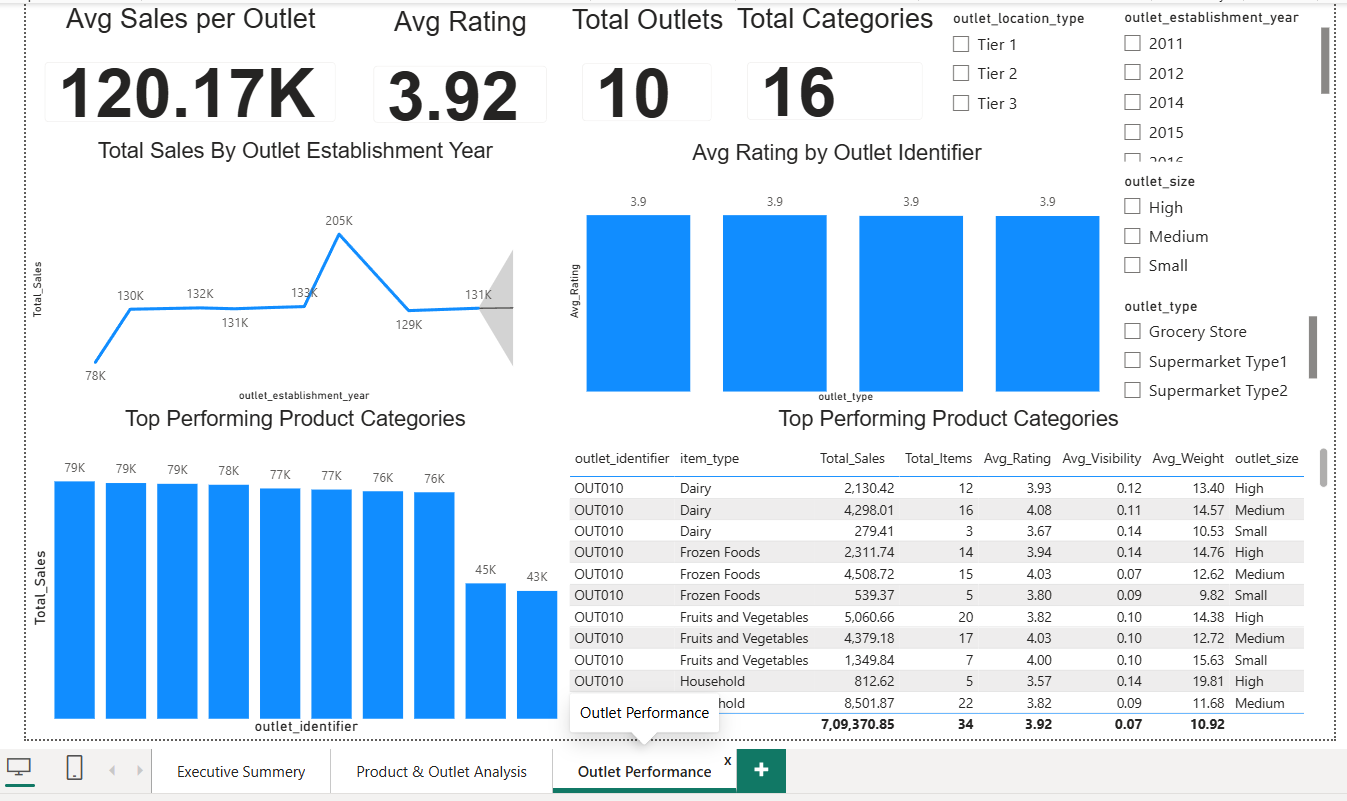

This screenshot's page, from the dashboard's own definition file:
{"tool":"powerbi","page":{"name":"Outlet Performance","canvas":[1280,720],"ordinal":2},"visuals":[{"type":"cardVisual","title":"Avg Sales per Outlet","fields":{"Data":["BlinkIT_Grocery_Data_Raw.Avg_Sales_per_Outlet"]},"box":[1.7,0,319.9,134.1],"z":0},{"type":"cardVisual","title":"Avg Rating","fields":{"Data":["BlinkIT_Grocery_Data_Raw.Avg_Rating"]},"box":[322.3,3.3,204.5,130.9],"z":1000},{"type":"cardVisual","title":"Total Outlets","fields":{"Data":["BlinkIT_Grocery_Data_Raw.Total_Outlets"]},"box":[526.8,1.6,162,132.5],"z":2000},{"type":"cardVisual","title":"Total Categories","fields":{"Data":["BlinkIT_Grocery_Data_Raw.Total_Categories"]},"box":[687.9,0,206.4,132.4],"z":3000},{"type":"slicer","fields":{"Values":["BlinkIT_Grocery_Data_Raw.outlet_establishment_year"]},"box":[1061,0,218.4,159.9],"z":4000},{"type":"slicer","fields":{"Values":["BlinkIT_Grocery_Data_Raw.outlet_location_type"]},"box":[894.2,1.7,166.8,132.4],"z":5000},{"type":"slicer","fields":{"Values":["BlinkIT_Grocery_Data_Raw.outlet_size"]},"box":[1061,159.9,218.4,127.3],"z":6000},{"type":"columnChart","title":"Top Performing Product Categories ","fields":{"Category":["BlinkIT_Grocery_Data_Raw.outlet_identifier"],"Y":["BlinkIT_Grocery_Data_Raw.Total_Sales"]},"box":[1.7,395.5,524.5,325],"z":8000},{"type":"columnChart","title":"Avg Rating by Outlet Identifier","fields":{"Category":["BlinkIT_Grocery_Data_Raw.outlet_type"],"Y":["BlinkIT_Grocery_Data_Raw.Avg_Rating"]},"box":[526.2,134.1,534.8,261.4],"z":9000},{"type":"lineChart","title":"Total Sales By Outlet Establishment Year","fields":{"Category":["BlinkIT_Grocery_Data_Raw.outlet_establishment_year"],"Y":["BlinkIT_Grocery_Data_Raw.Total_Sales"]},"box":[1.7,132.4,524.5,263.1],"z":11000},{"type":"slicer","fields":{"Values":["BlinkIT_Grocery_Data_Raw.outlet_type"]},"box":[1061,282,206.4,113.5],"z":12000},{"type":"tableEx","title":"Top Performing Product Categories ","fields":{"Values":["BlinkIT_Grocery_Data_Raw.outlet_identifier","BlinkIT_Grocery_Data_Raw.item_type","BlinkIT_Grocery_Data_Raw.Total_Sales","BlinkIT_Grocery_Data_Raw.Total_Items","BlinkIT_Grocery_Data_Raw.Avg_Rating","BlinkIT_Grocery_Data_Raw.Avg_Visibility","BlinkIT_Grocery_Data_Raw.Avg_Weight","BlinkIT_Grocery_Data_Raw.outlet_size"]},"box":[526.2,395.5,753.2,325],"z":12001}]}

Visuals, with their boxes on the page's 1280x720 design canvas (x1, y1, x2, y2). These are canvas units, not pixel positions in the 1347x801 screenshot, which may show the page scaled, cropped or inside an application window:
"Avg Sales per Outlet" cardVisual: (2,0,322,134)
"Avg Rating" cardVisual: (322,3,527,134)
"Total Outlets" cardVisual: (527,2,689,134)
"Total Categories" cardVisual: (688,0,894,132)
slicer - BlinkIT_Grocery_Data_Raw.outlet_establishment_year: (1061,0,1279,160)
slicer - BlinkIT_Grocery_Data_Raw.outlet_location_type: (894,2,1061,134)
slicer - BlinkIT_Grocery_Data_Raw.outlet_size: (1061,160,1279,287)
"Top Performing Product Categories " columnChart: (2,396,526,720)
"Avg Rating by Outlet Identifier" columnChart: (526,134,1061,396)
"Total Sales By Outlet Establishment Year" lineChart: (2,132,526,396)
slicer - BlinkIT_Grocery_Data_Raw.outlet_type: (1061,282,1267,396)
"Top Performing Product Categories " tableEx: (526,396,1279,720)
